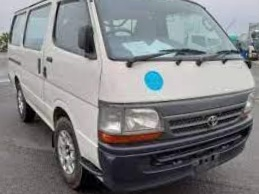van: (3, 0, 257, 194)
